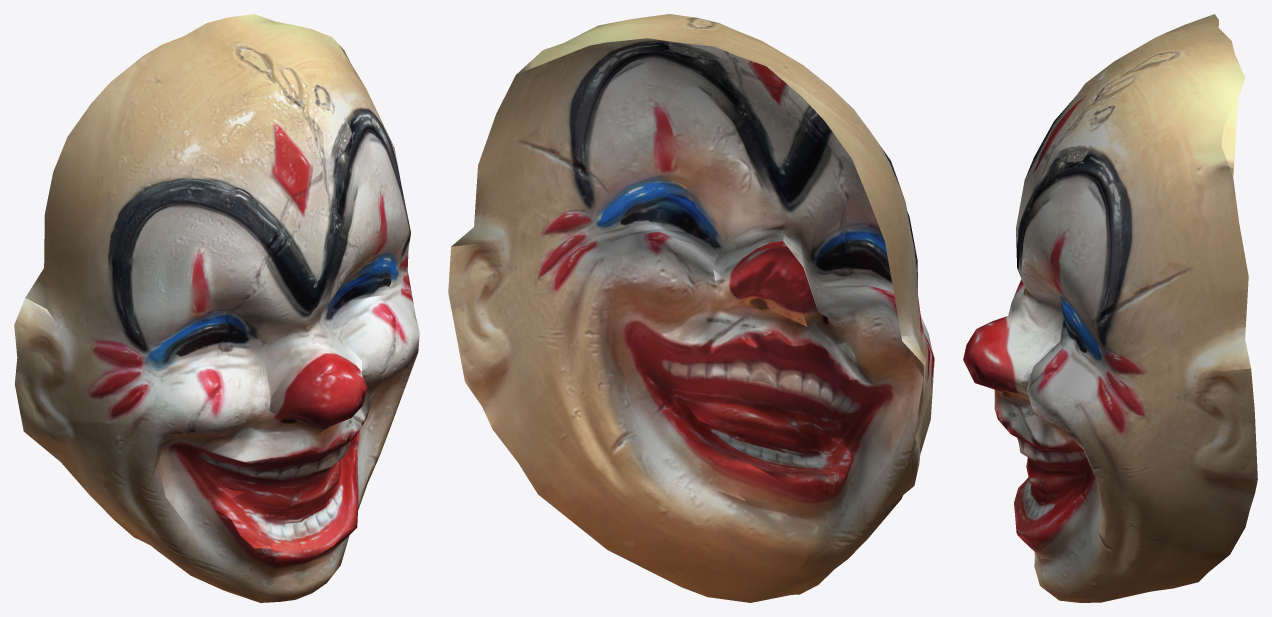
File: clown_laughing_mask.glb
3 renders of one model, left to right at view 1: azimuth 30°, elevation 25°; view 2: azimuth 150°, elevation 25°; view 3: azimuth 270°, elevation 25°, orthographic. The views are drawn at different scales.
Visible parts, largest first — view 1: geo1; view 2: geo1; view 3: geo1.
Boxes of the visible parts, <box> form: geo1: <box>14,14,419,602</box>; geo1: <box>448,14,934,602</box>; geo1: <box>963,14,1257,602</box>.
Size of the model in its own units: 0.00188 by 0.00237 by 0.00116.
1 material, 1 textured.
